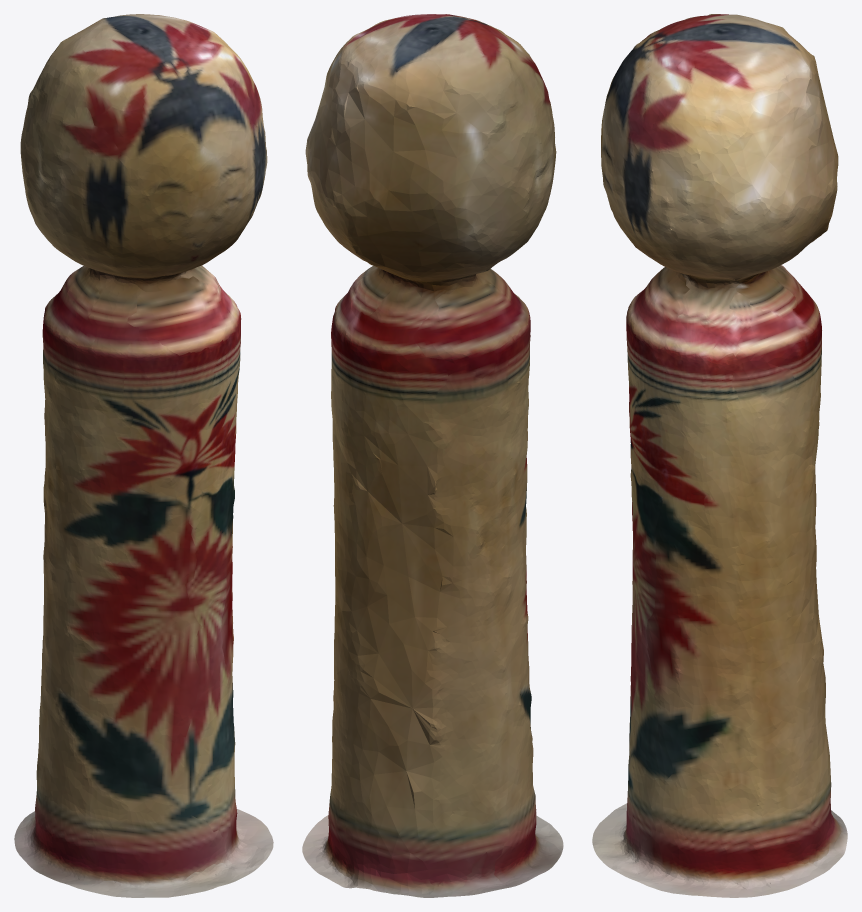
File: kokeshi008.glb
3 renders of one model, left to right at view 1: azimuth 30°, elevation 25°; view 2: azimuth 150°, elevation 25°; view 3: azimuth 270°, elevation 25°, orthographic.
Parts seen in each view (by area): view 1: mesh; view 2: mesh; view 3: mesh.
Boxes of the visible parts, <box> form: mesh: <box>14,14,273,897</box>; mesh: <box>302,14,563,897</box>; mesh: <box>592,14,847,897</box>.
Bounding box in the file's own units: 0.0918 × 0.3176 × 0.0904.
Materials: 1 (1 with a texture image).
